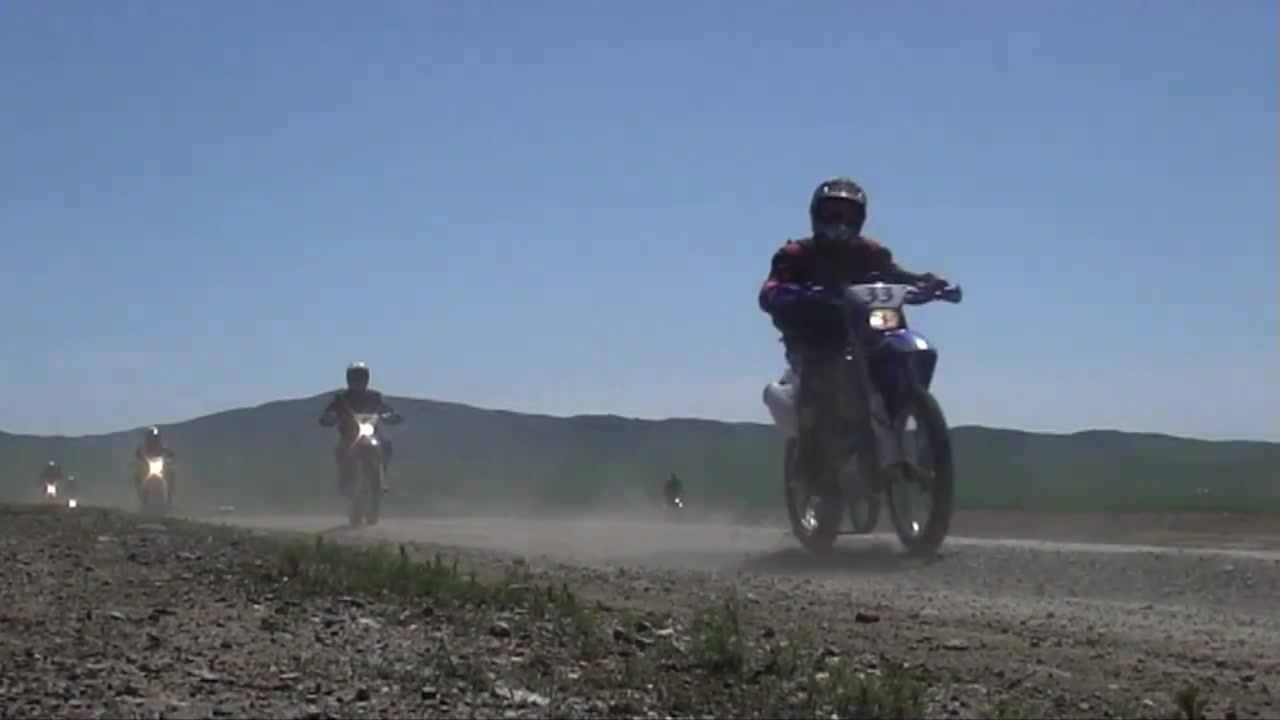motorbike: (761, 269, 967, 559), (322, 400, 398, 526), (131, 449, 179, 512), (39, 476, 74, 513), (670, 488, 695, 514)
